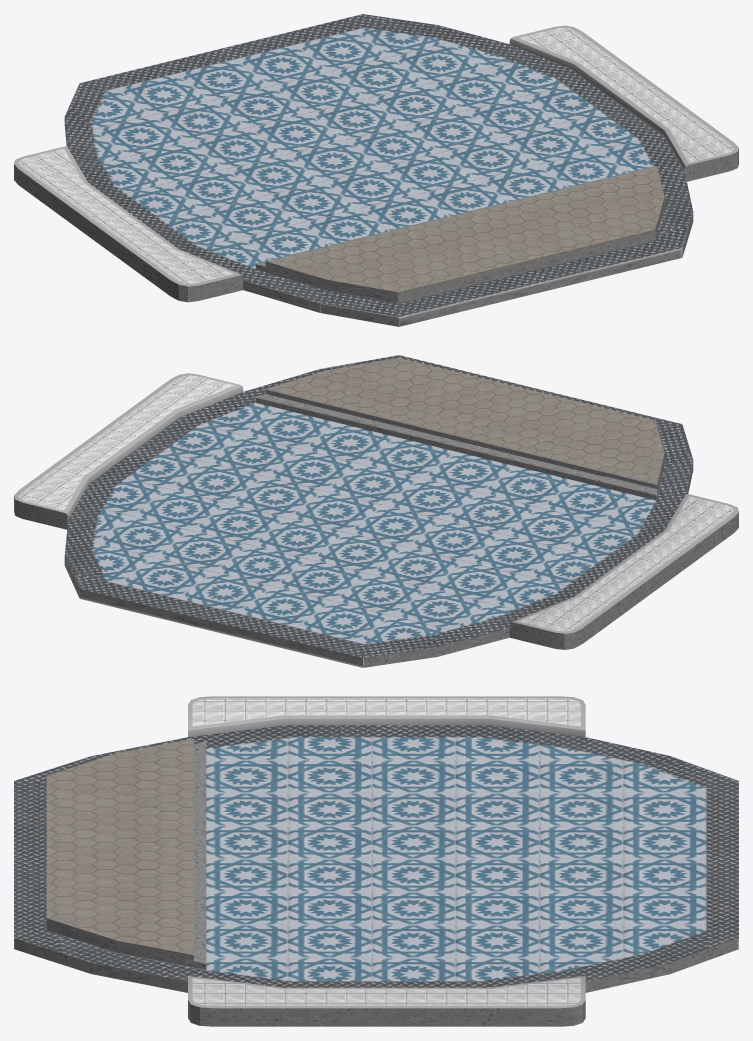
File: Platform_01.FBX
The picture shows the model from 3 angles, top to bottom: view 1: azimuth 30°, elevation 25°; view 2: azimuth 150°, elevation 25°; view 3: azimuth 270°, elevation 25°; orthographic projection. The views are drawn at different scales.
Visible parts, largest first — view 1: Platform1_01; view 2: Platform1_01; view 3: Platform1_01.
Boxes of the visible parts, bbox=[...] form: Platform1_01: bbox=[14, 14, 738, 326]; Platform1_01: bbox=[14, 355, 738, 667]; Platform1_01: bbox=[14, 696, 738, 1026].
Bounding box in the file's own units: 42.46 × 1.51 × 41.68.
